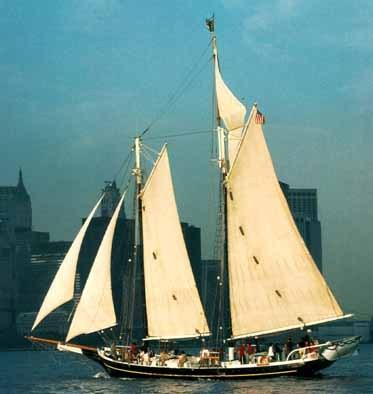Ship: (25, 17, 362, 380)
